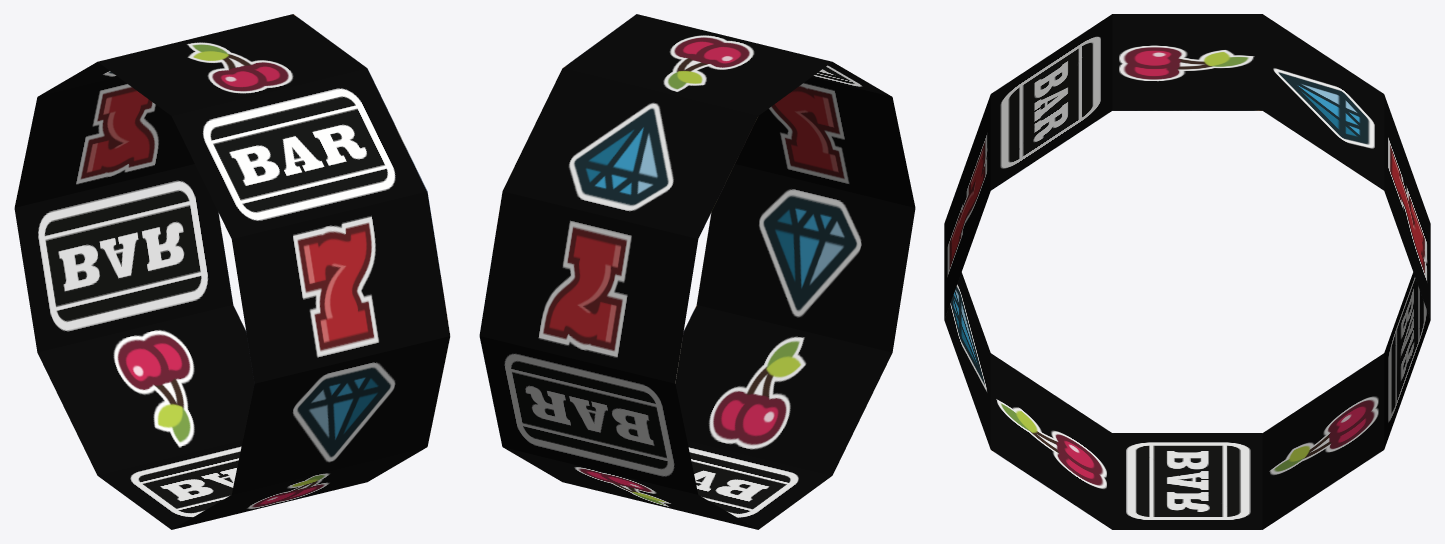
Rendered from slotMachineWheel_2.gltf.
3 renders of one model, left to right at view 1: azimuth 30°, elevation 25°; view 2: azimuth 150°, elevation 25°; view 3: azimuth 270°, elevation 25°, orthographic.
Visible parts, largest first — view 1: NewWheel; view 2: NewWheel; view 3: NewWheel.
Part boxes in pixels (x1=…): NewWheel: x1=14, y1=14, x2=450, y2=529; NewWheel: x1=479, y1=14, x2=915, y2=529; NewWheel: x1=944, y1=14, x2=1430, y2=529.
Size of the model in its own units: 0.3289 by 0.6638 by 0.698.
Materials: 1 (1 with a texture image).
